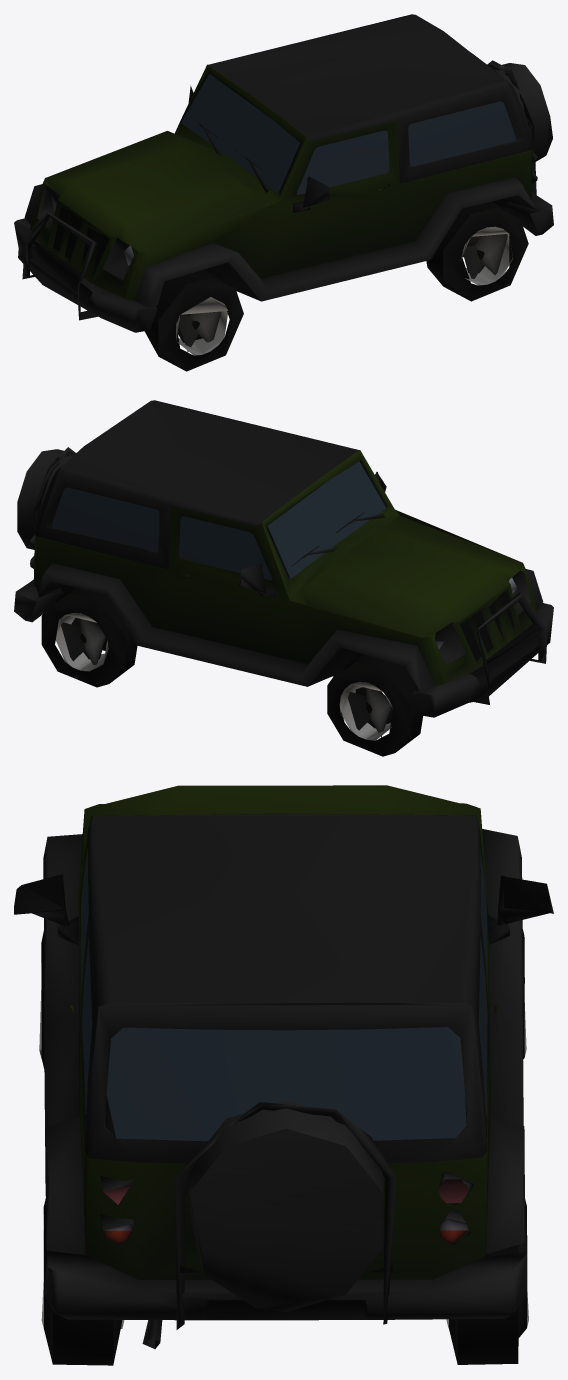
The model's file is offroad.glb.
3 renders of one model, top to bottom at view 1: azimuth 30°, elevation 25°; view 2: azimuth 150°, elevation 25°; view 3: azimuth 270°, elevation 25°, orthographic. The views are drawn at different scales.
Parts seen in each view (by area): view 1: offroad; view 2: offroad; view 3: offroad.
Boxes of the visible parts, bbox=[...] form: offroad: bbox=[14, 14, 553, 371]; offroad: bbox=[14, 400, 553, 756]; offroad: bbox=[14, 785, 553, 1365].
Size of the model in its own units: 4.59 by 1.8 by 2.29.
